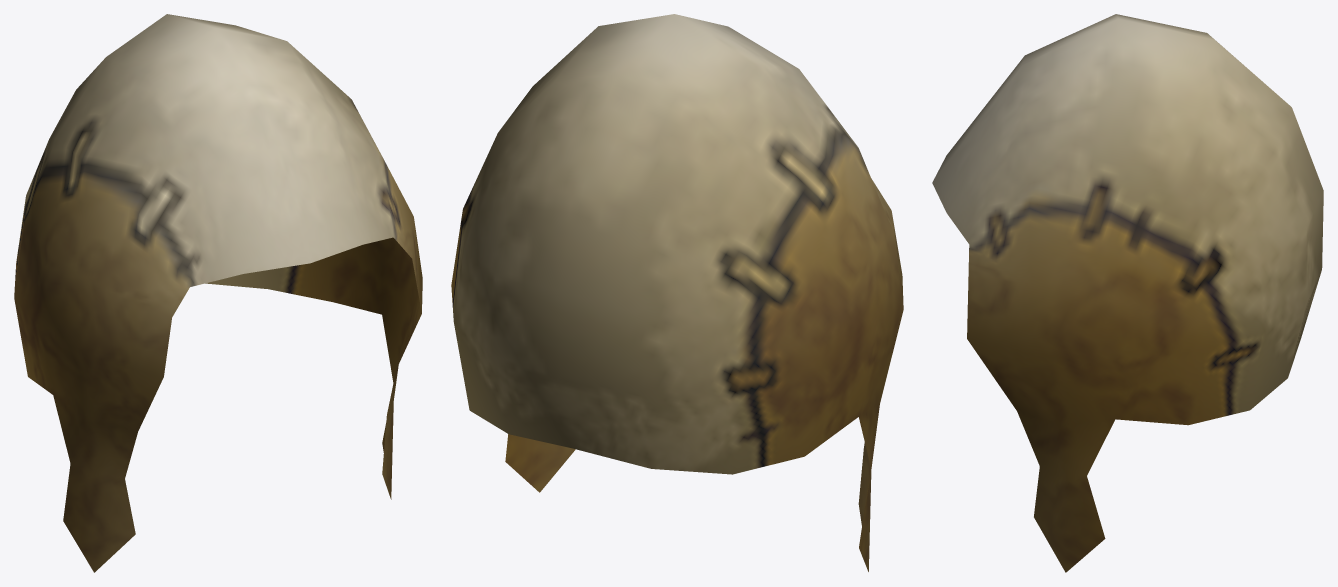
File: traveler_cap02.FBX
3 renders of one model, left to right at view 1: azimuth 30°, elevation 25°; view 2: azimuth 150°, elevation 25°; view 3: azimuth 270°, elevation 25°, orthographic. The views are drawn at different scales.
Visible parts, largest first — view 1: traveler_cap02; view 2: traveler_cap02; view 3: traveler_cap02.
Part boxes in pixels (box(x1,y1,x2,y2)): traveler_cap02: box(14, 14, 422, 572); traveler_cap02: box(451, 14, 903, 571); traveler_cap02: box(932, 14, 1323, 572).
Size of the model in its own units: 71.84 by 94.96 by 69.89.
